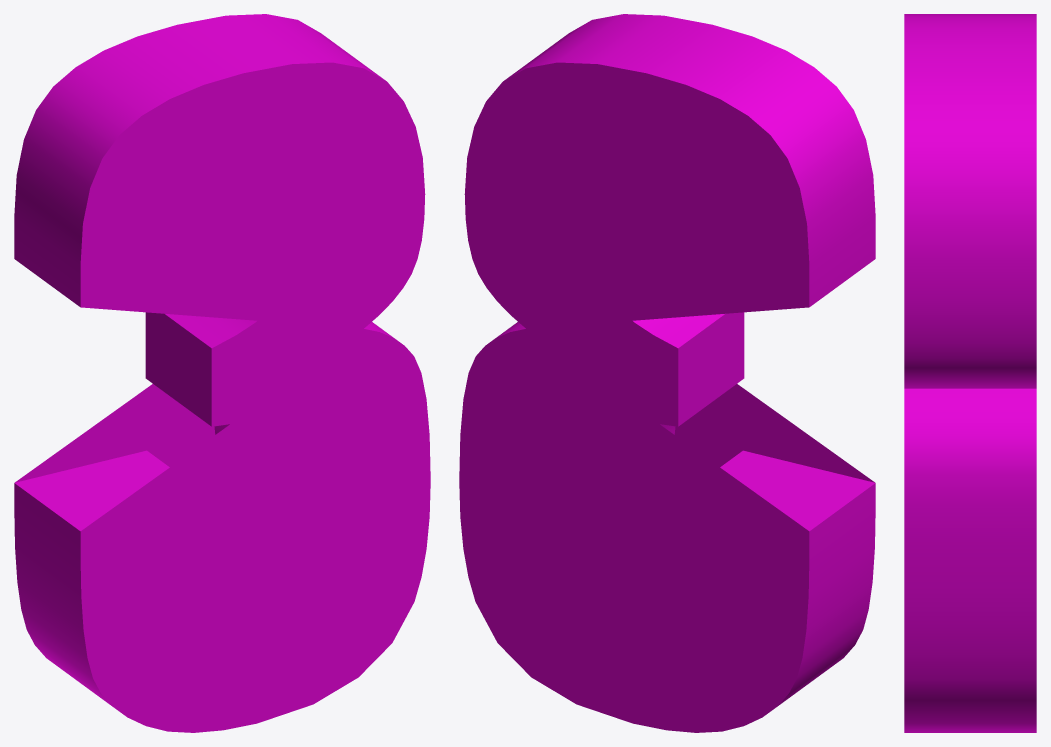
File: three.fbx
3 renders of one model, left to right at view 1: azimuth 30°, elevation 25°; view 2: azimuth 150°, elevation 25°; view 3: azimuth 270°, elevation 25°, orthographic.
Visible parts, largest first — view 1: typeMesh1; view 2: typeMesh1; view 3: typeMesh1.
Part boxes in pixels (<box>): typeMesh1: <box>14,14,430,732</box>; typeMesh1: <box>459,14,875,732</box>; typeMesh1: <box>904,14,1036,732</box>.
Bounding box in the file's own units: 38.14 × 68.03 × 12.5.
